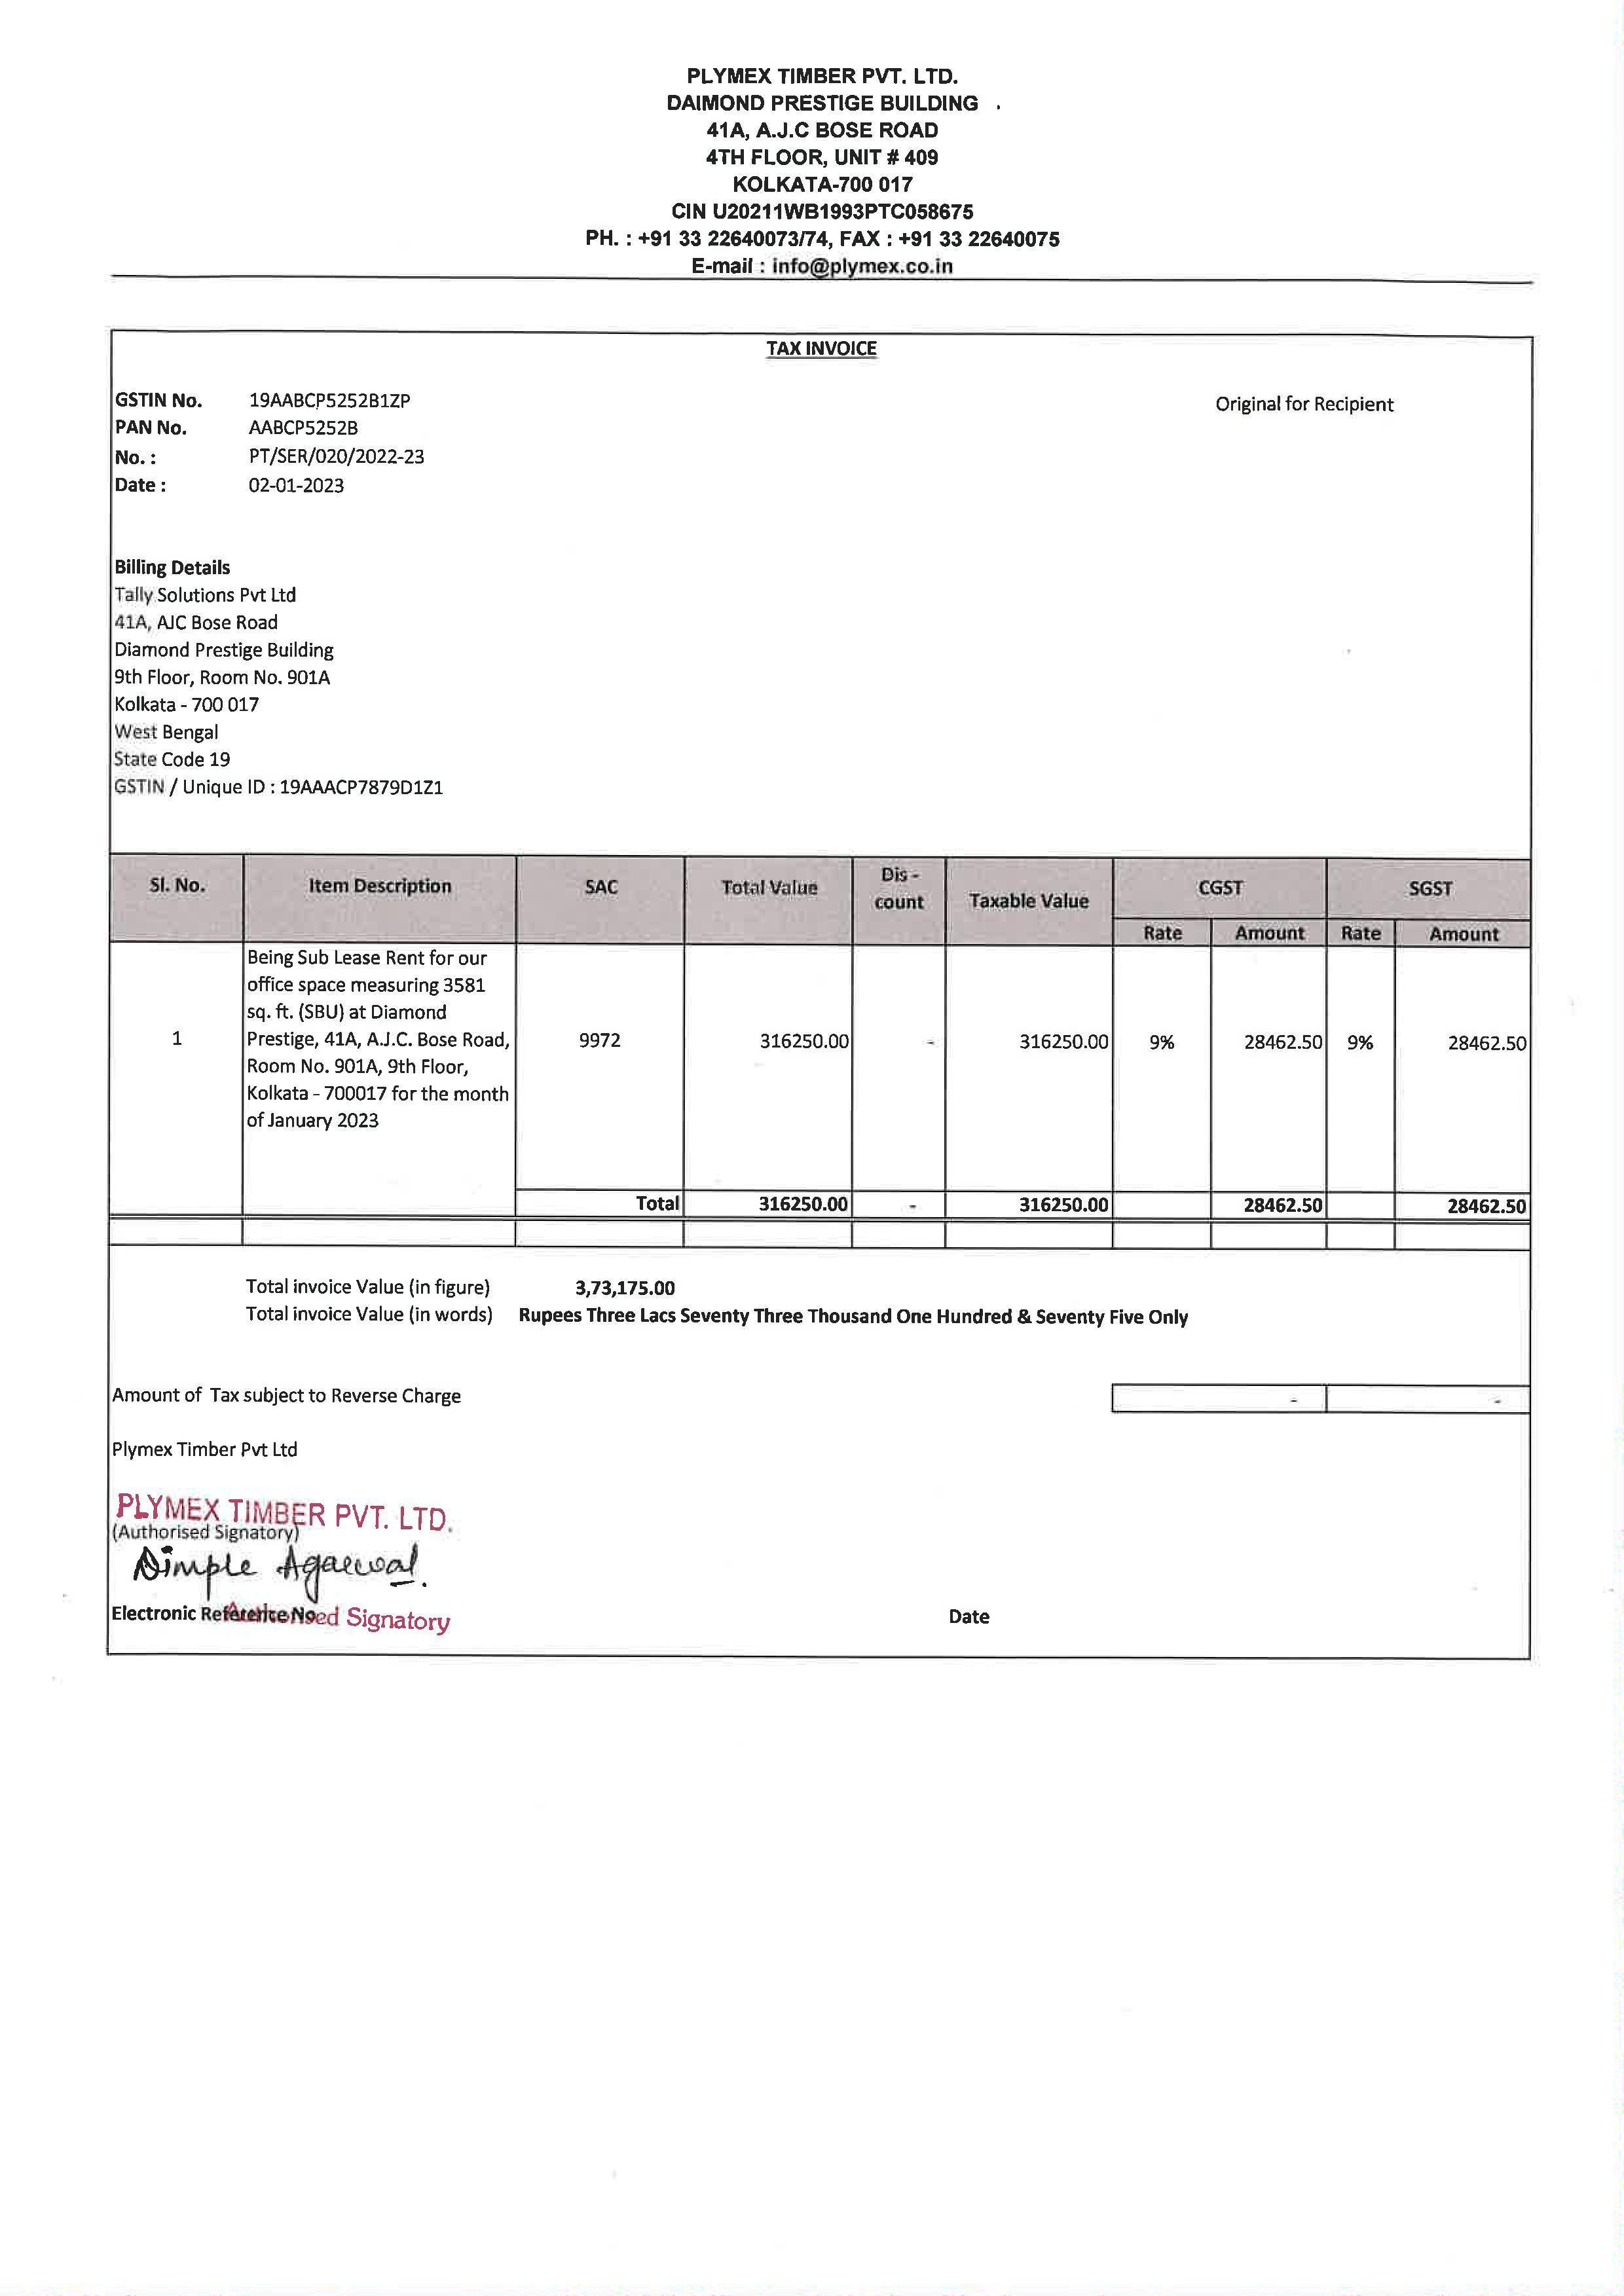InvoiceDate: (244, 471, 357, 495)
InvoiceNumber: (243, 444, 432, 466)
TotalAmount: (1436, 1191, 1541, 1219)
